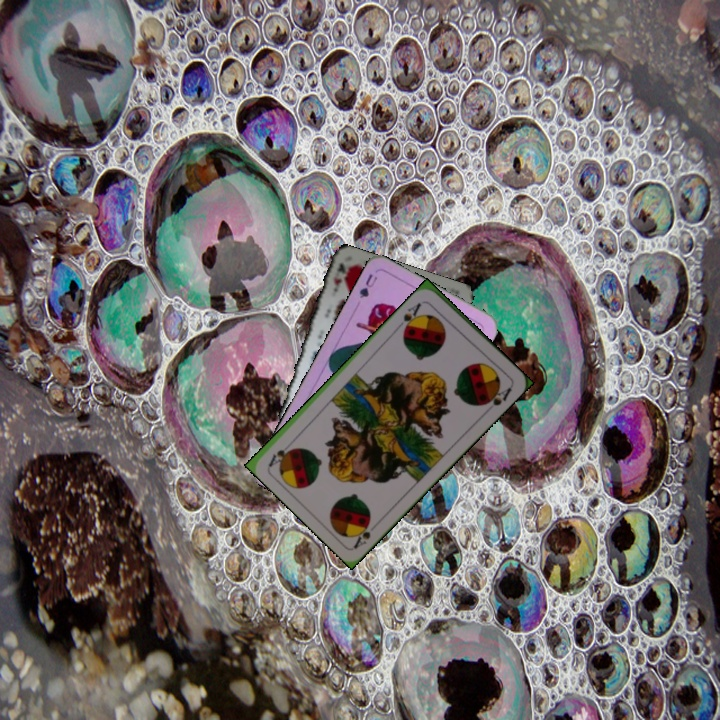GU: (355, 269, 380, 301)
HK: (329, 258, 352, 294)
SA: (395, 299, 424, 334), (350, 516, 374, 550)
